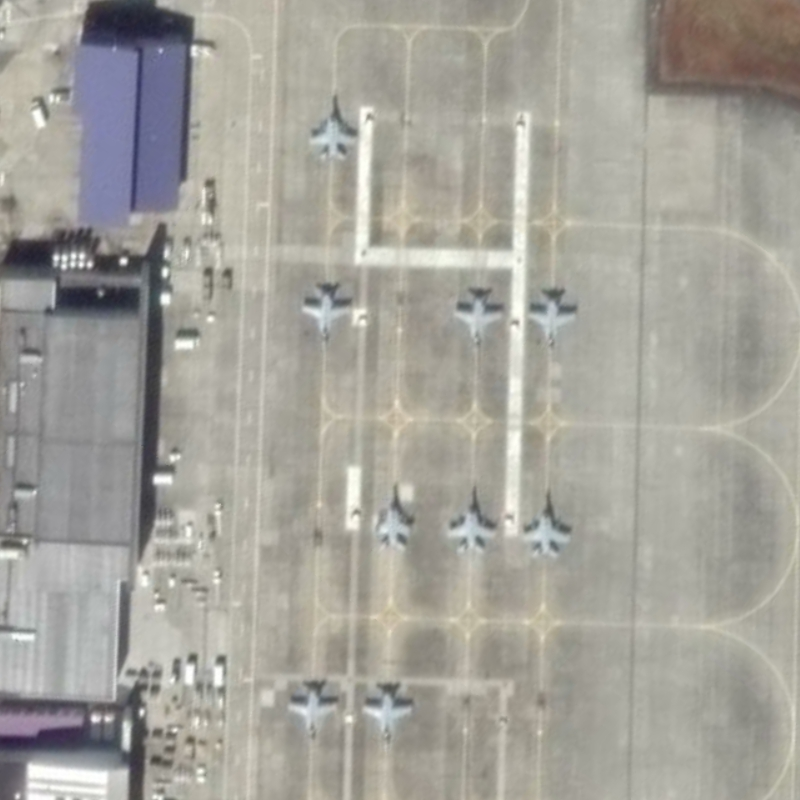A16: (357, 677, 416, 761), (516, 484, 576, 566), (303, 89, 366, 166), (446, 283, 505, 362), (525, 279, 580, 363), (285, 675, 342, 756), (299, 279, 355, 360), (443, 483, 498, 558), (366, 479, 415, 555)
